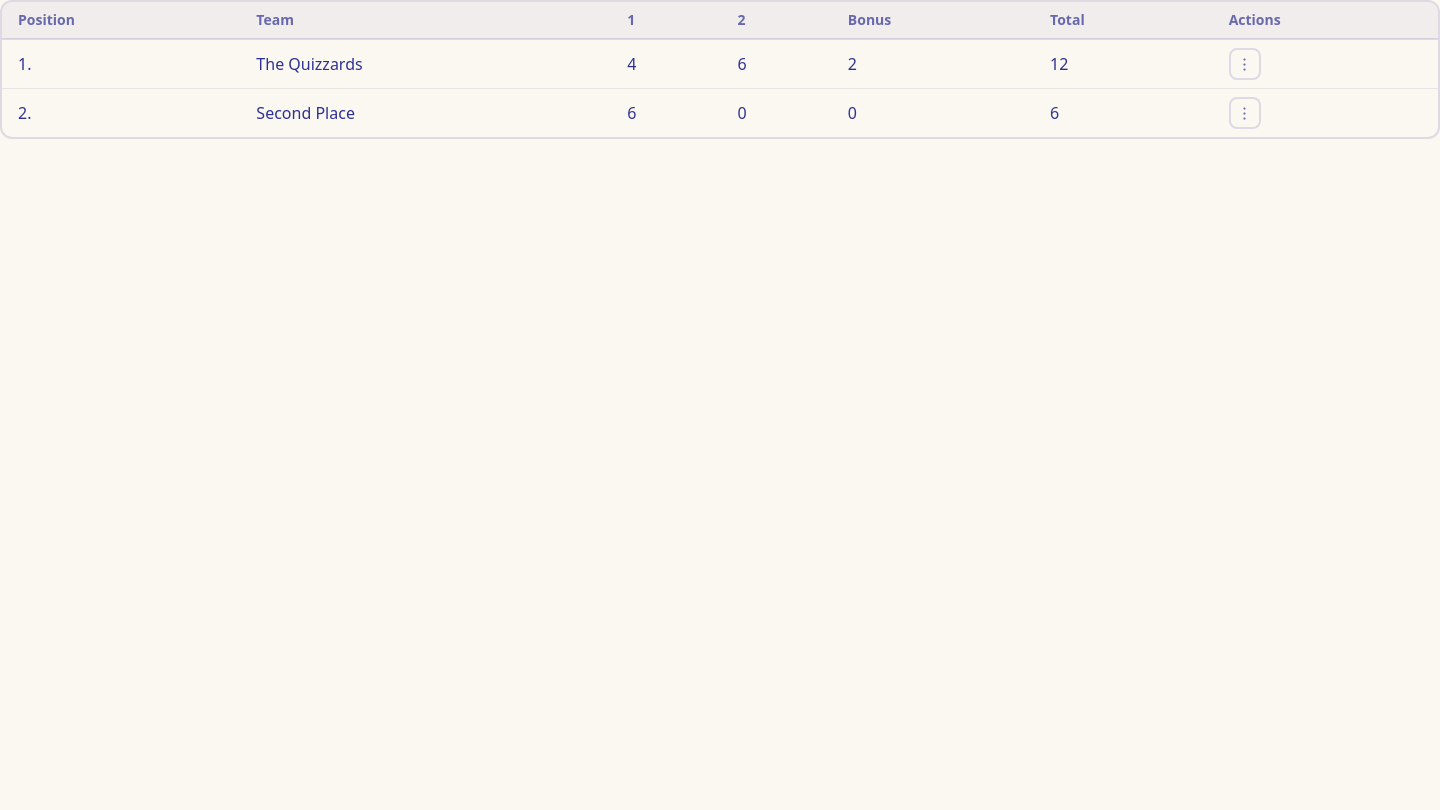
Test: TeamsTable › opens the bonus awards list modal for a team from its actions menu
Click the button named "Actions for The Quizzards". click: [1245, 64]
box: [1229,48,1261,80]
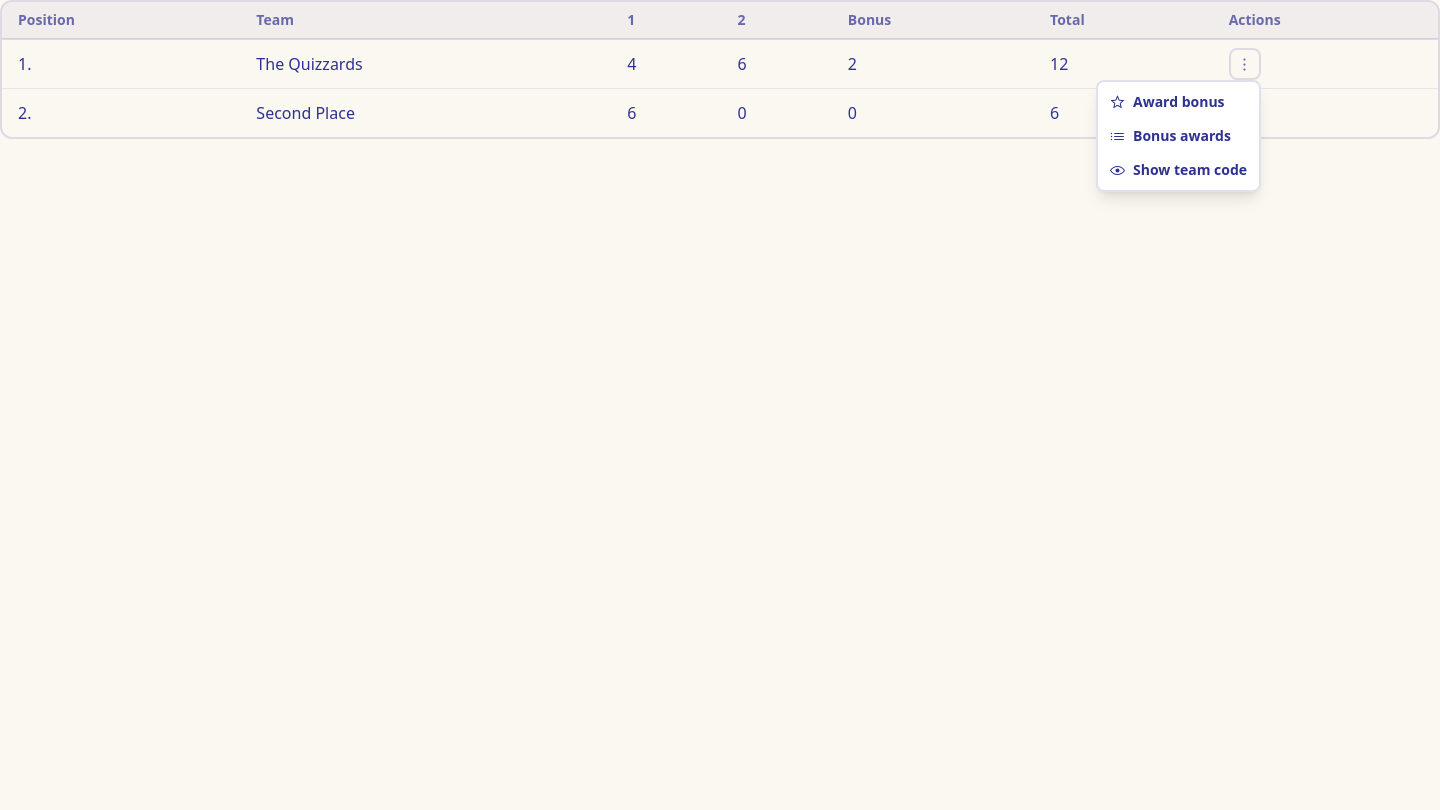
Click the menu item "Bonus awards". click: [1170, 136]
box: [1110,126,1231,145]
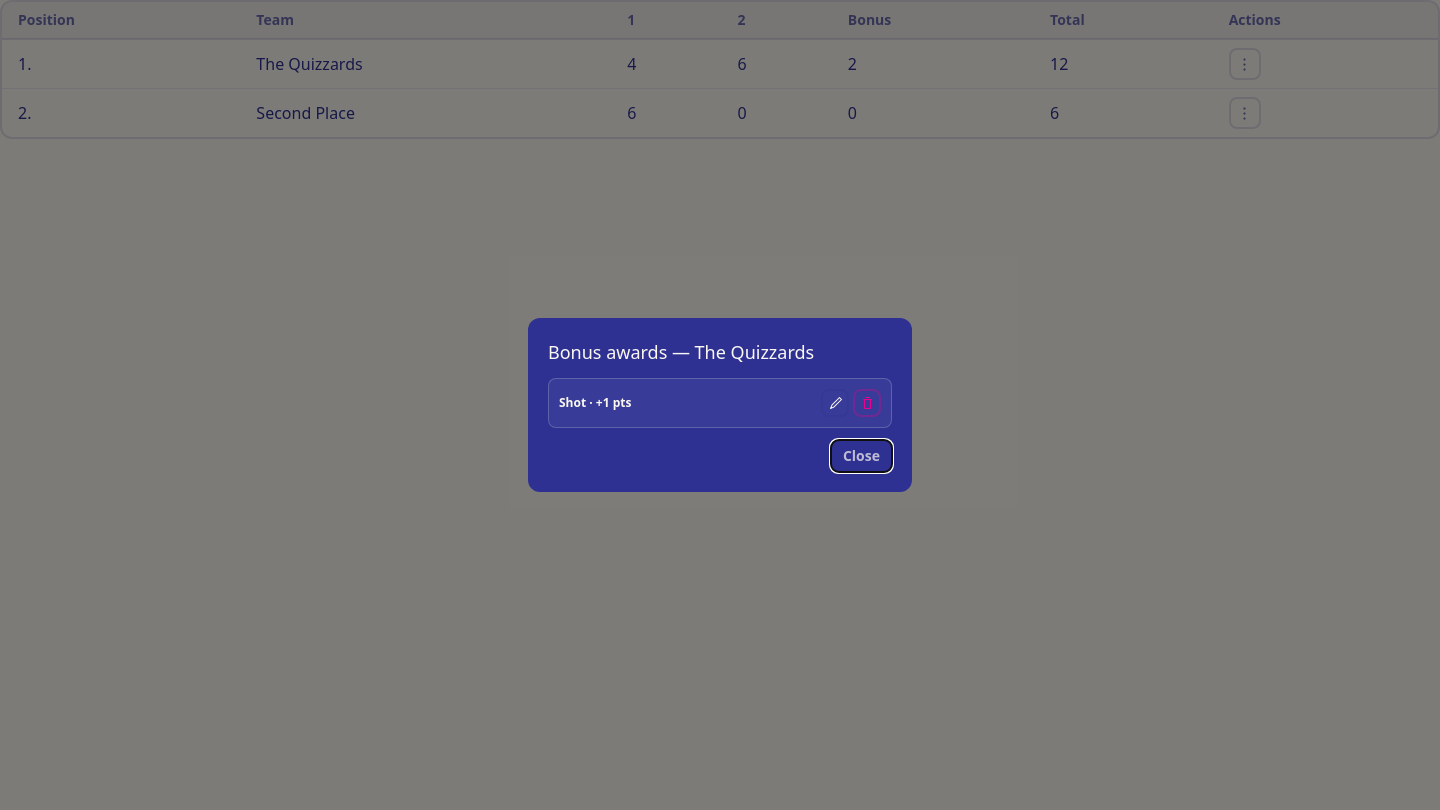
expect the dialog "Bonus awards — The Quizzards Shot · +1 pts Close" is shown: met, box [528,318,912,492]
expect the text "Shot · +1 pts" is shown: met, box [559,395,632,411]
